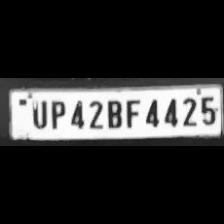2: (178, 93, 198, 126), (84, 98, 104, 130)
4: (66, 96, 86, 130), (141, 96, 161, 128), (160, 95, 178, 127)
5: (196, 93, 218, 127)
B: (104, 97, 122, 129)
F: (123, 96, 141, 128)
P: (46, 98, 66, 130)
U: (28, 97, 48, 128)
